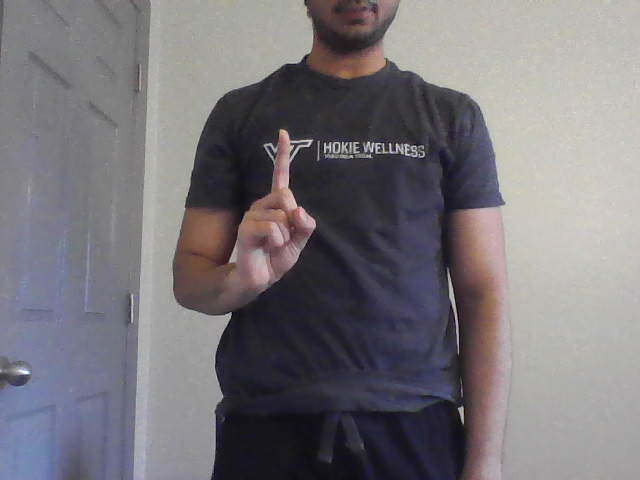one: (233, 124, 319, 290)
